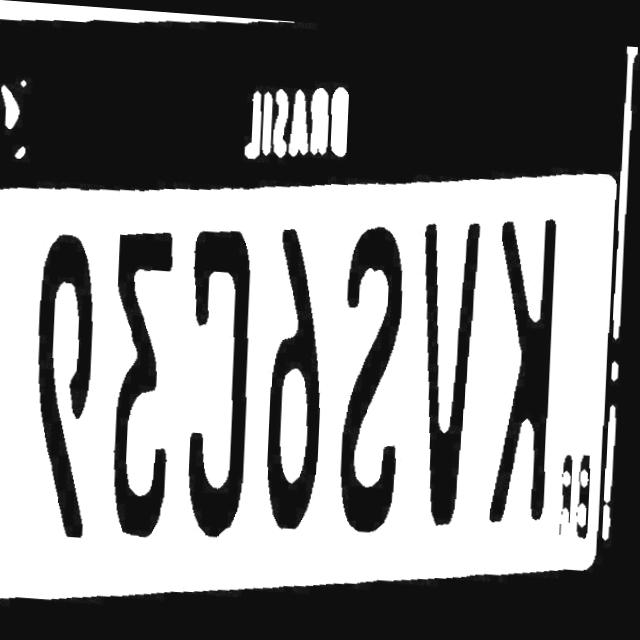3: (111, 203, 191, 532)
6: (267, 210, 338, 528)
9: (32, 193, 110, 534)
c: (177, 205, 268, 529)
k: (482, 215, 571, 534)
s: (333, 215, 419, 540)
v: (413, 217, 490, 525)
